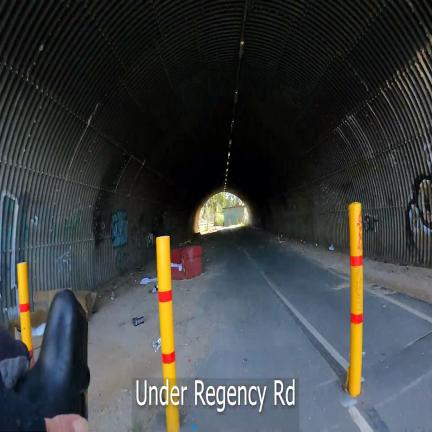Bike_Lane: (197, 230, 432, 432), (193, 393, 294, 432)
